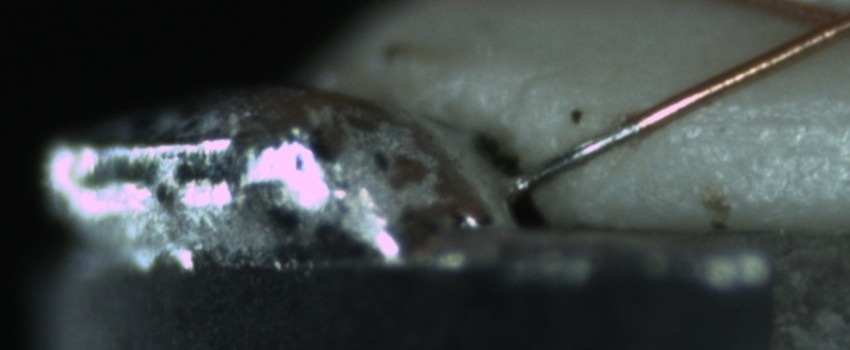CL: (778, 1, 848, 57)
DL: (689, 87, 850, 151)
TS: (517, 117, 644, 192)
